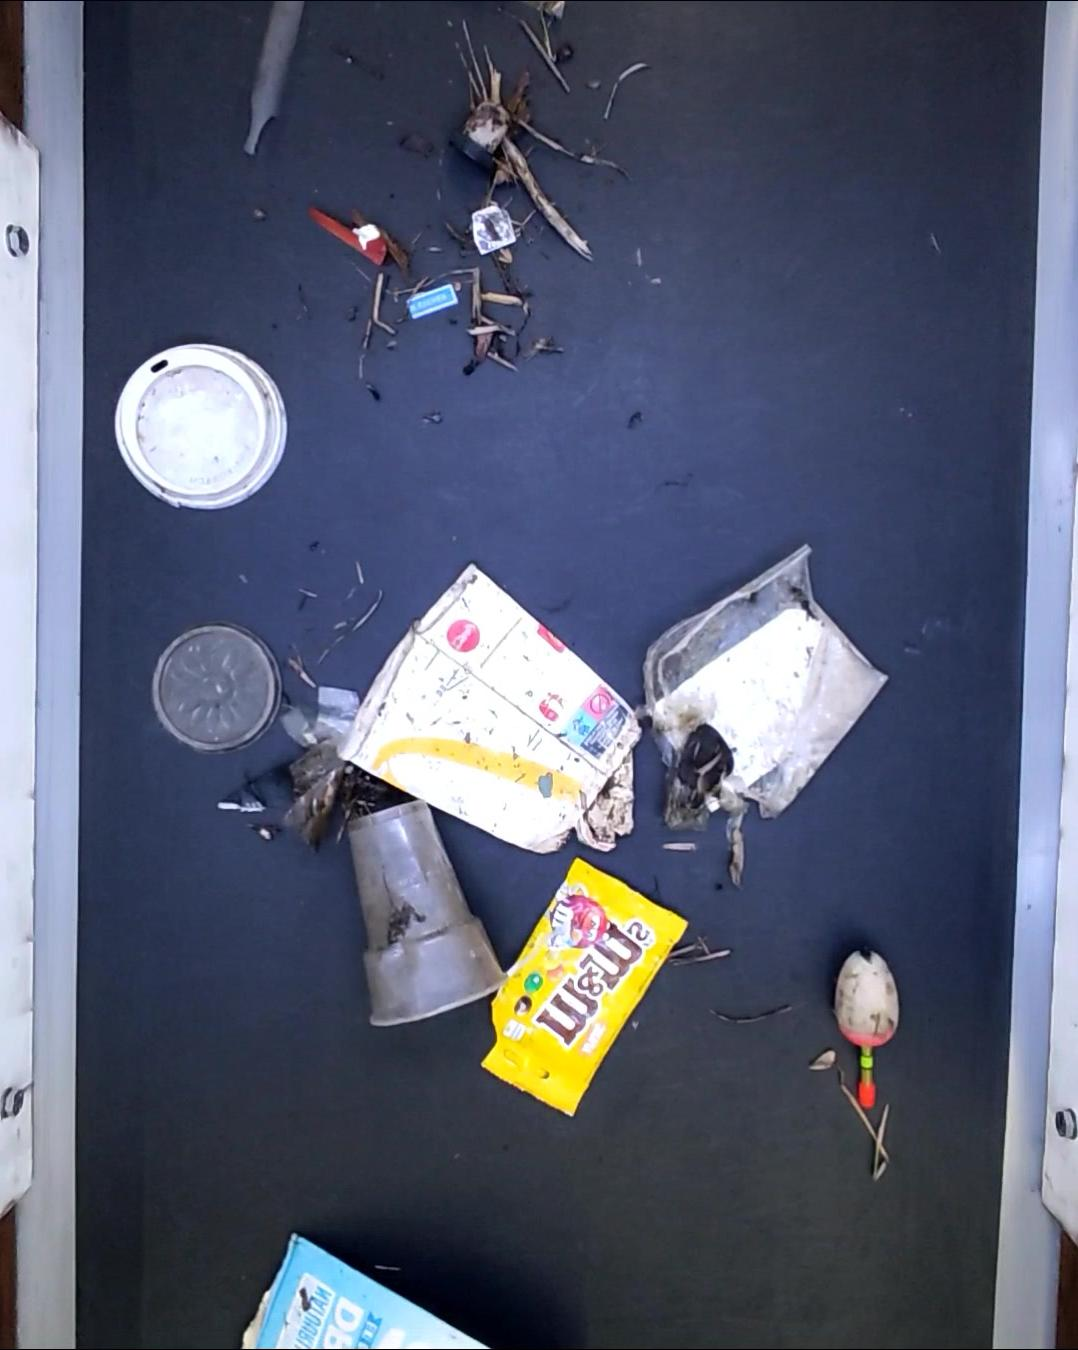Plastic folies of stukken daarvan 2.5- 50 cm: (645, 545, 883, 850), (277, 687, 362, 850)
Snoep snack en chips verpakkingen: (480, 858, 687, 1120)
